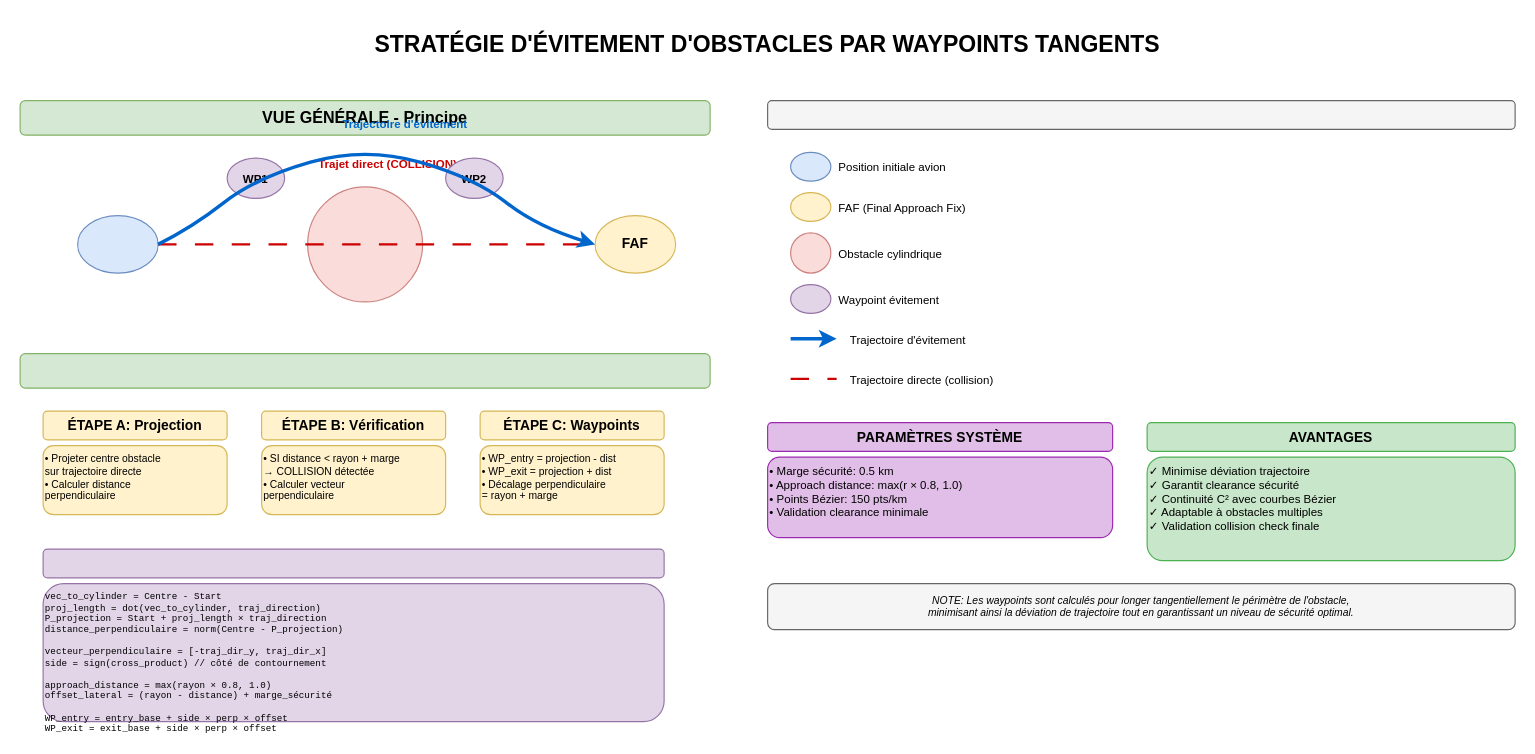
Image size: 1535x754. Some labels were removed from this diagram. Here are the shapes that lost their labels. From the top down, the centre of each, then its label:
point (1140, 114): LÉGENDE
point (117, 243): Start
point (364, 244): Obstacle
point (364, 370): CALCULS GÉOMÉTRIQUES
point (353, 563): FORMULES CLÉS
